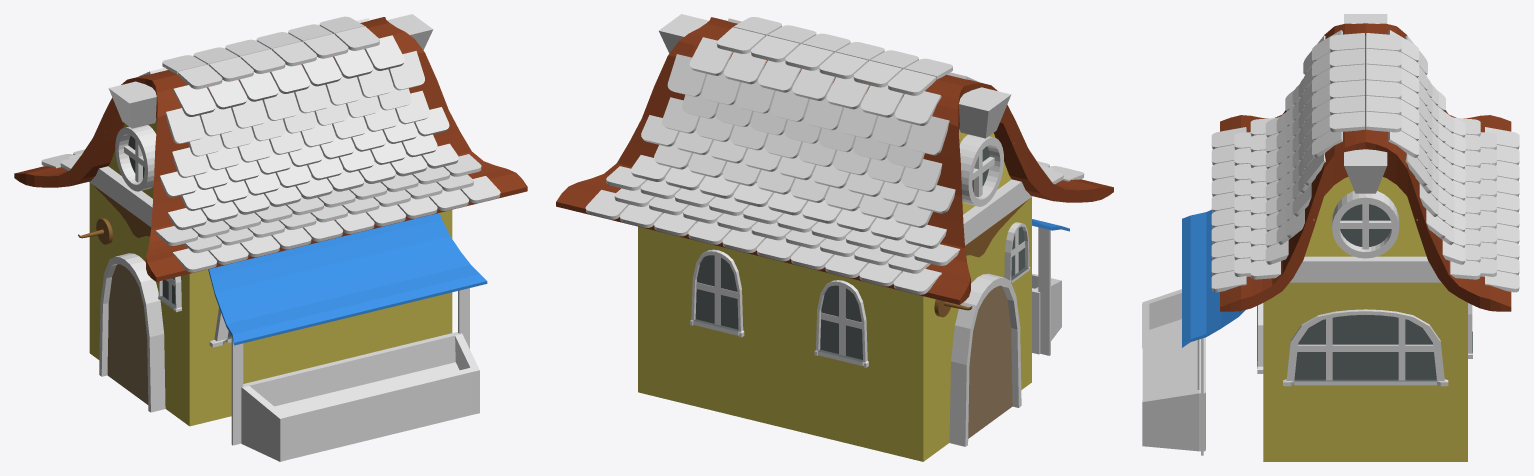
File: CasaEdvard_Finalv2.fbx
3 views of the same model, side by side, from view 1: azimuth 30°, elevation 25°; view 2: azimuth 150°, elevation 25°; view 3: azimuth 270°, elevation 25° (orthographic). The views are drawn at different scales.
Visible parts, largest first — view 1: Cube.001, Cube.003, Cube.002, Cube, Cube.191, Cube.006, Cylinder, Cube.189, Cube.004, Cube.125, Cube.093, Cube.132 (+75 smaller); view 2: Cube.001, Cube, Cube.191, Cube.193, Cube.192, Cube.006, Cylinder, Cube.189, Cube.004, Cube.002, Cube.085, Cube.065 (+80 smaller); view 3: Cube.001, Cube, Cube.194, Cube.002, Cube.003, Cube.190, Cylinder.001, Cube.006, Cube.203, Cube.110, Cube.077, Cube.106 (+29 smaller).
Boxes of the visible parts, x1=… form: Cube.001: x1=89, y1=120, x2=452, y2=426; Cube.003: x1=208, y1=213, x2=487, y2=345; Cube.002: x1=241, y1=332, x2=479, y2=461; Cube: x1=14, y1=17, x2=527, y2=281; Cube.191: x1=99, y1=253, x2=165, y2=412; Cube.006: x1=108, y1=14, x2=433, y2=128; Cylinder: x1=115, y1=125, x2=156, y2=191; Cube.189: x1=89, y1=166, x2=152, y2=226; Cube.004: x1=231, y1=336, x2=243, y2=445; Cube.125: x1=165, y1=108, x2=204, y2=143; Cube.093: x1=173, y1=85, x2=215, y2=116; Cube.132: x1=388, y1=51, x2=424, y2=90; Cube.001: x1=638, y1=129, x2=1031, y2=461; Cube: x1=556, y1=17, x2=1113, y2=304; Cube.191: x1=949, y1=273, x2=1021, y2=446; Cube.193: x1=690, y1=249, x2=744, y2=337; Cube.192: x1=814, y1=280, x2=868, y2=367; Cube.006: x1=659, y1=14, x2=1011, y2=138; Cylinder: x1=959, y1=134, x2=1003, y2=206; Cube.189: x1=963, y1=179, x2=1032, y2=245; Cube.004: x1=1038, y1=227, x2=1050, y2=355; Cube.002: x1=1032, y1=273, x2=1061, y2=354; Cube.085: x1=907, y1=116, x2=949, y2=155; Cube.065: x1=895, y1=91, x2=941, y2=125; Cube.001: x1=1263, y1=177, x2=1467, y2=461; Cube: x1=1220, y1=23, x2=1511, y2=311; Cube.194: x1=1283, y1=309, x2=1448, y2=386; Cube.002: x1=1142, y1=289, x2=1205, y2=451; Cube.003: x1=1182, y1=209, x2=1245, y2=347; Cube.190: x1=1290, y1=256, x2=1441, y2=282; Cylinder.001: x1=1332, y1=191, x2=1399, y2=258; Cube.006: x1=1344, y1=14, x2=1387, y2=193; Cube.203: x1=1297, y1=344, x2=1433, y2=351; Cube.110: x1=1329, y1=111, x2=1365, y2=132; Cube.077: x1=1366, y1=111, x2=1401, y2=132; Cube.106: x1=1329, y1=48, x2=1365, y2=67.
Bounding box in the file's own units: 326 × 259 × 280.
